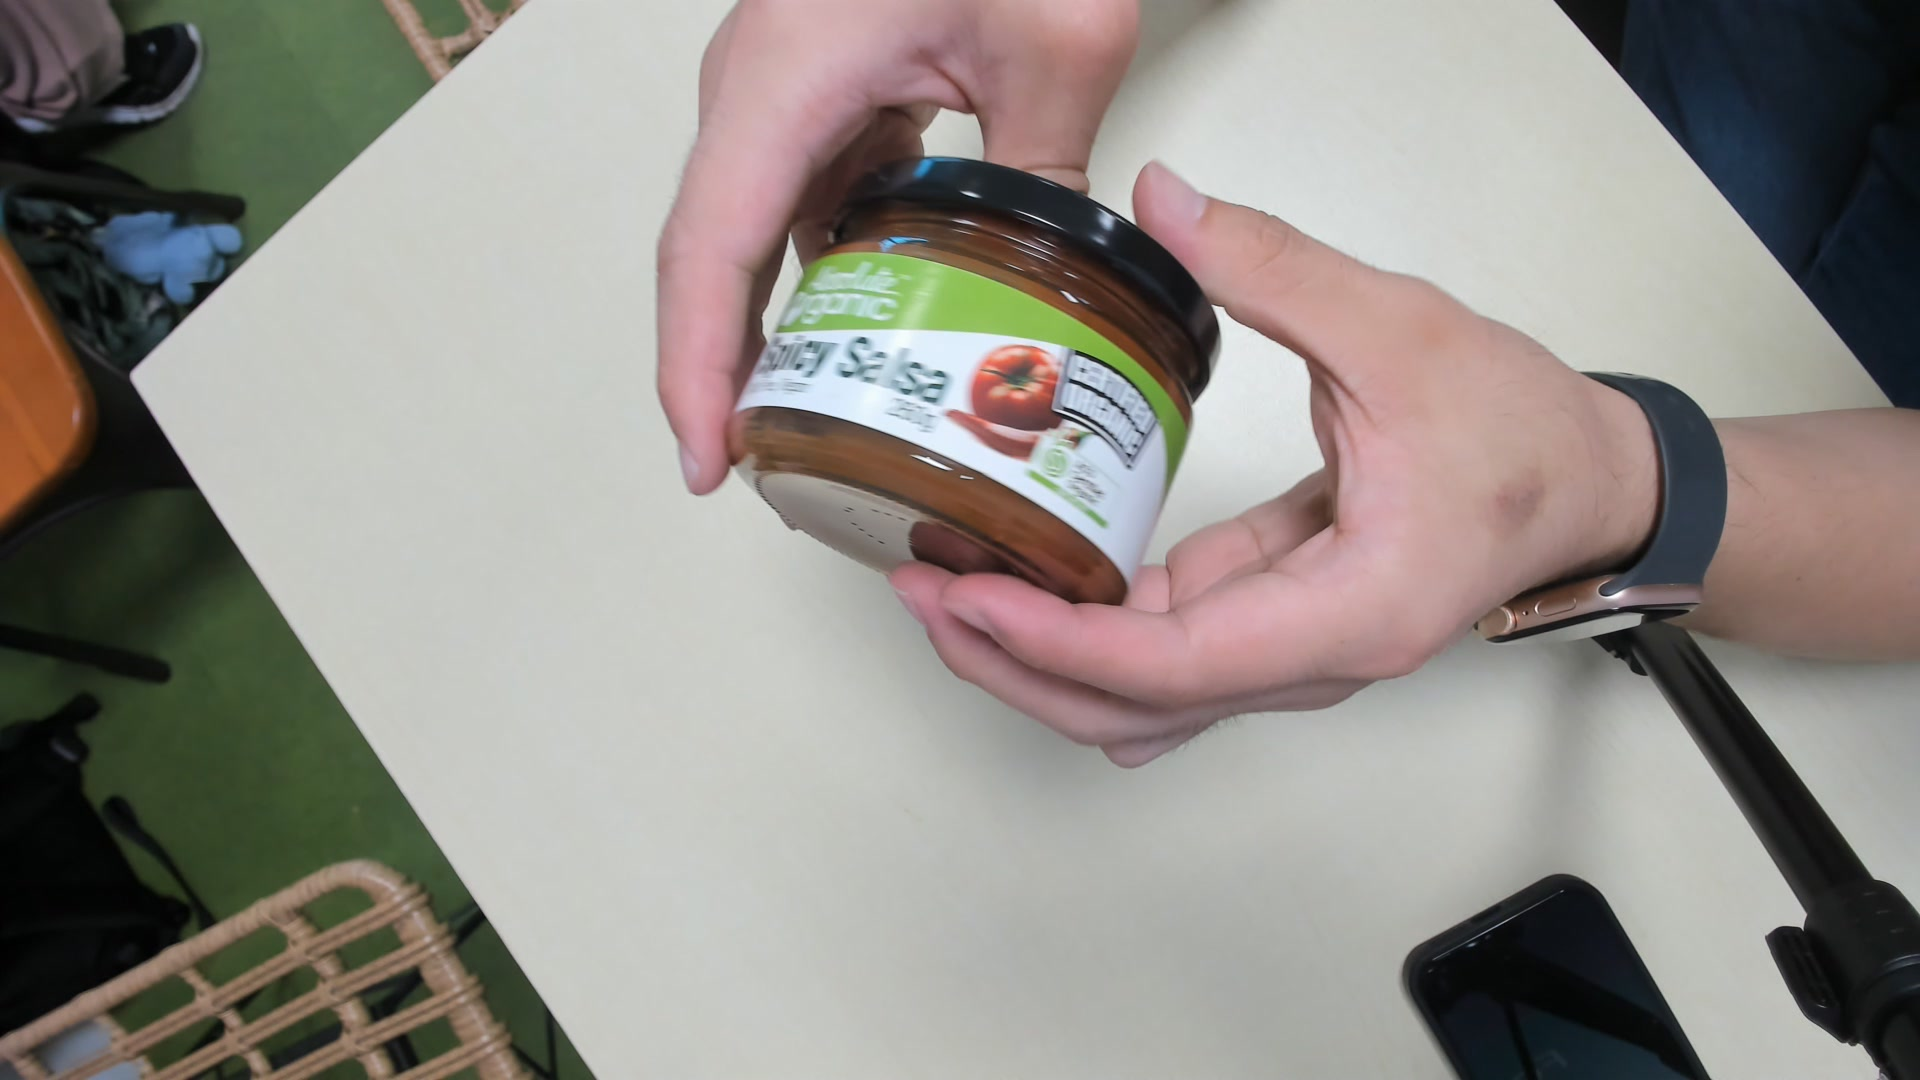OtherSauceDressing_200-299g_NonHalal_NonHealthy: (738, 152, 1218, 612)
